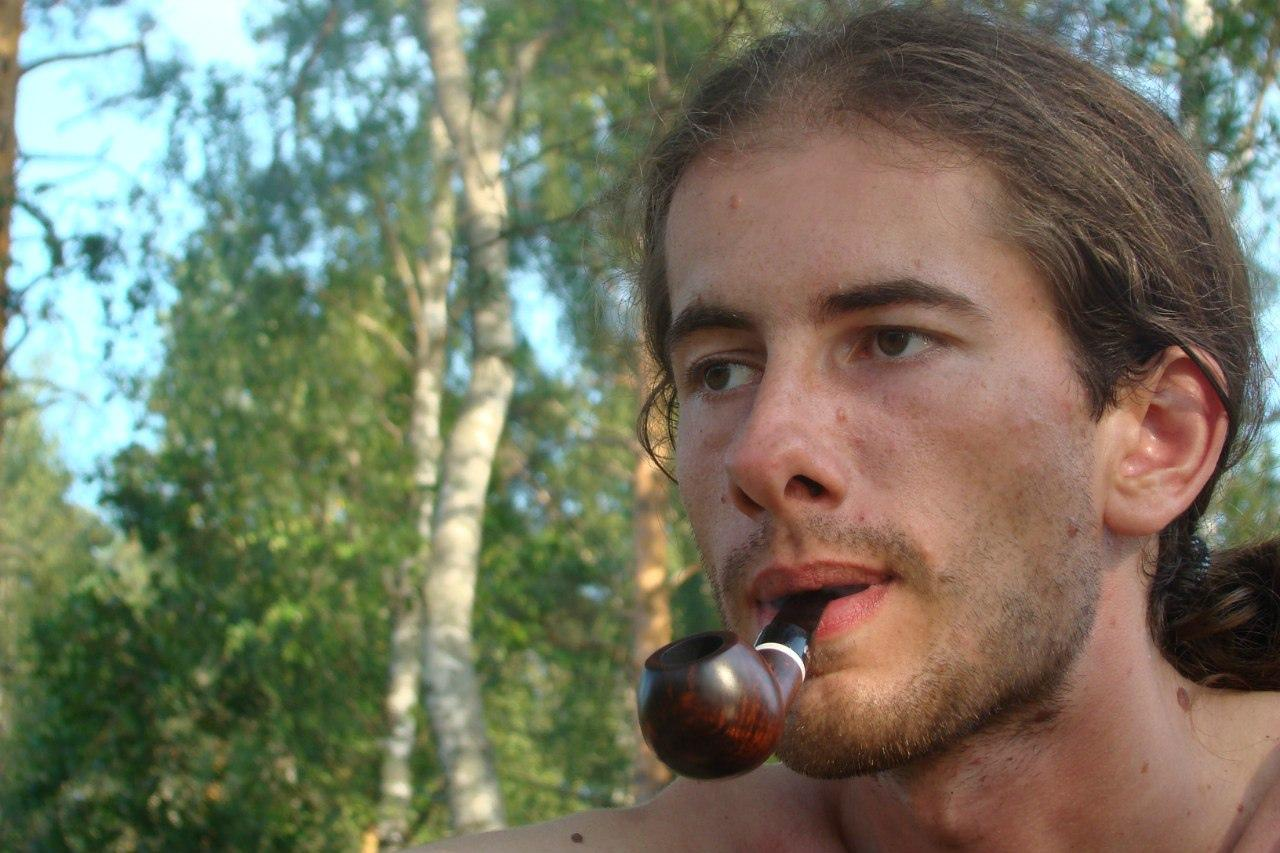trubka: (638, 591, 833, 779)
